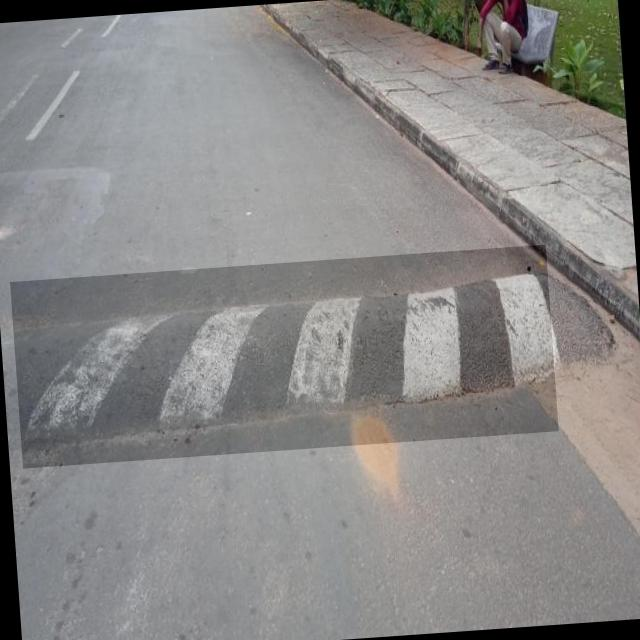bump: (9, 244, 558, 468)
